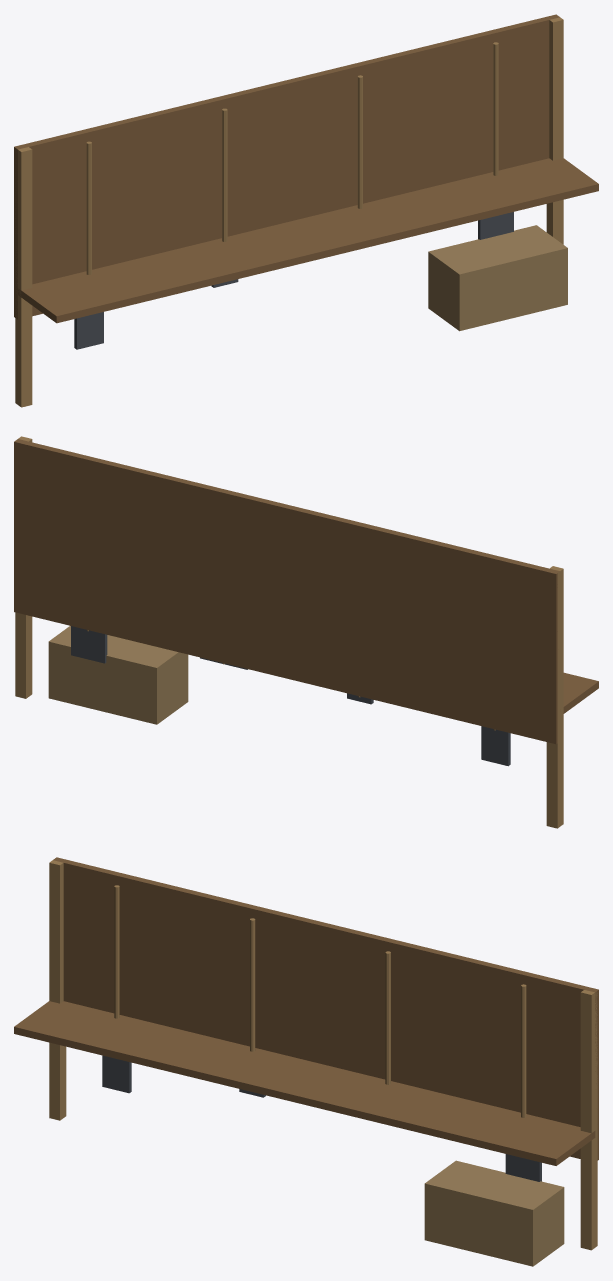
The model's file is tool rack.glb.
The picture shows the model from 3 angles, top to bottom: view 1: azimuth 30°, elevation 25°; view 2: azimuth 150°, elevation 25°; view 3: azimuth 330°, elevation 25°; orthographic projection.
Visible parts, largest first — view 1: tool rack; view 2: tool rack; view 3: tool rack.
Boxes of the visible parts, x1=… form: tool rack: x1=14, y1=14, x2=598, y2=407; tool rack: x1=14, y1=436, x2=598, y2=828; tool rack: x1=14, y1=857, x2=598, y2=1266.
Size of the model in its own units: 4 by 1.8 by 0.545.
